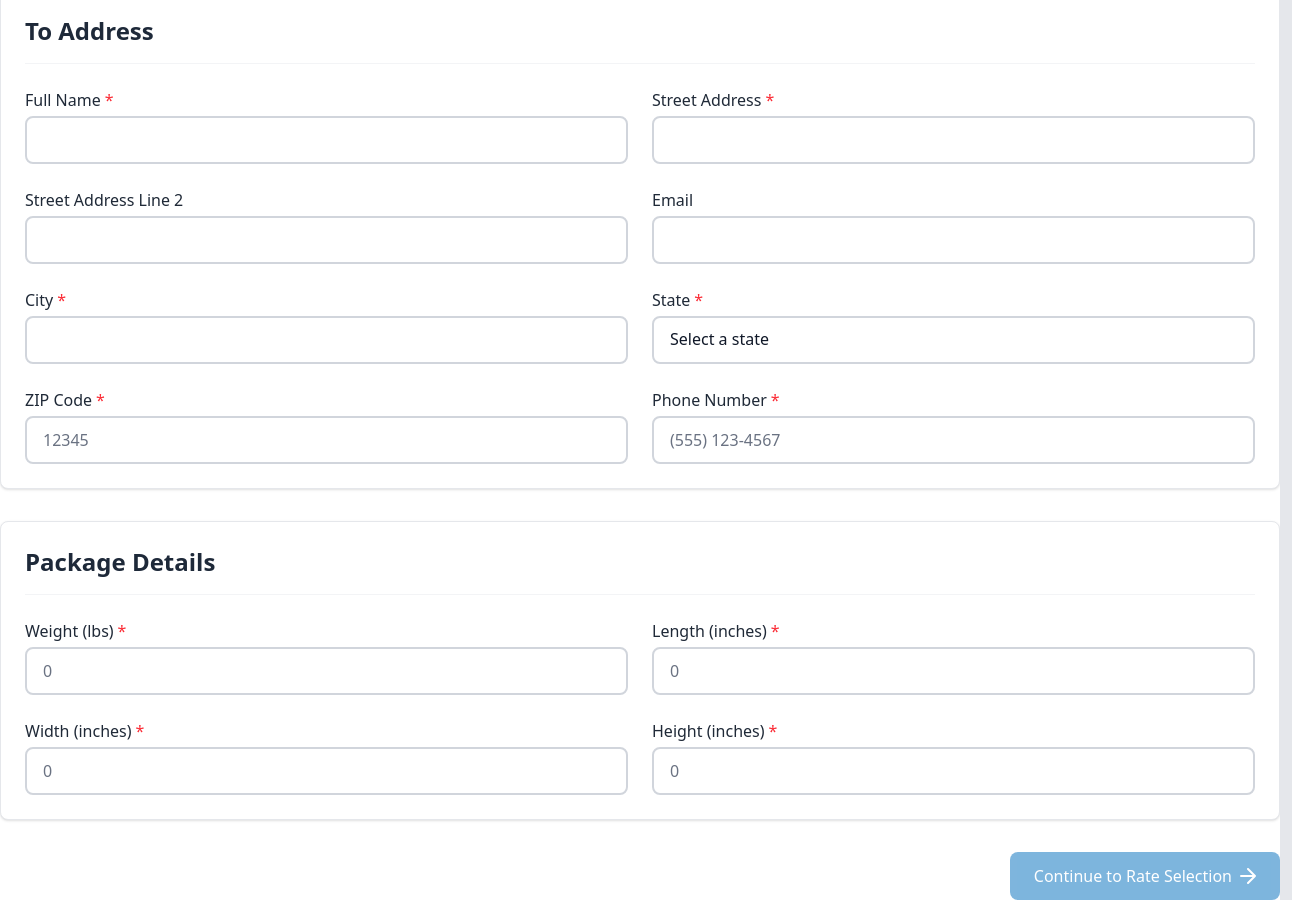
Test: ShipmentDetailsForm › shows validation errors when submitting with empty required fields
The width and height of the screenshot is (1292, 900).
(page scrolled)
Click the button "Continue to Rate Selection".
click(1145, 876)  # box x1=1010 y1=852 x2=1280 y2=899
(page scrolled)
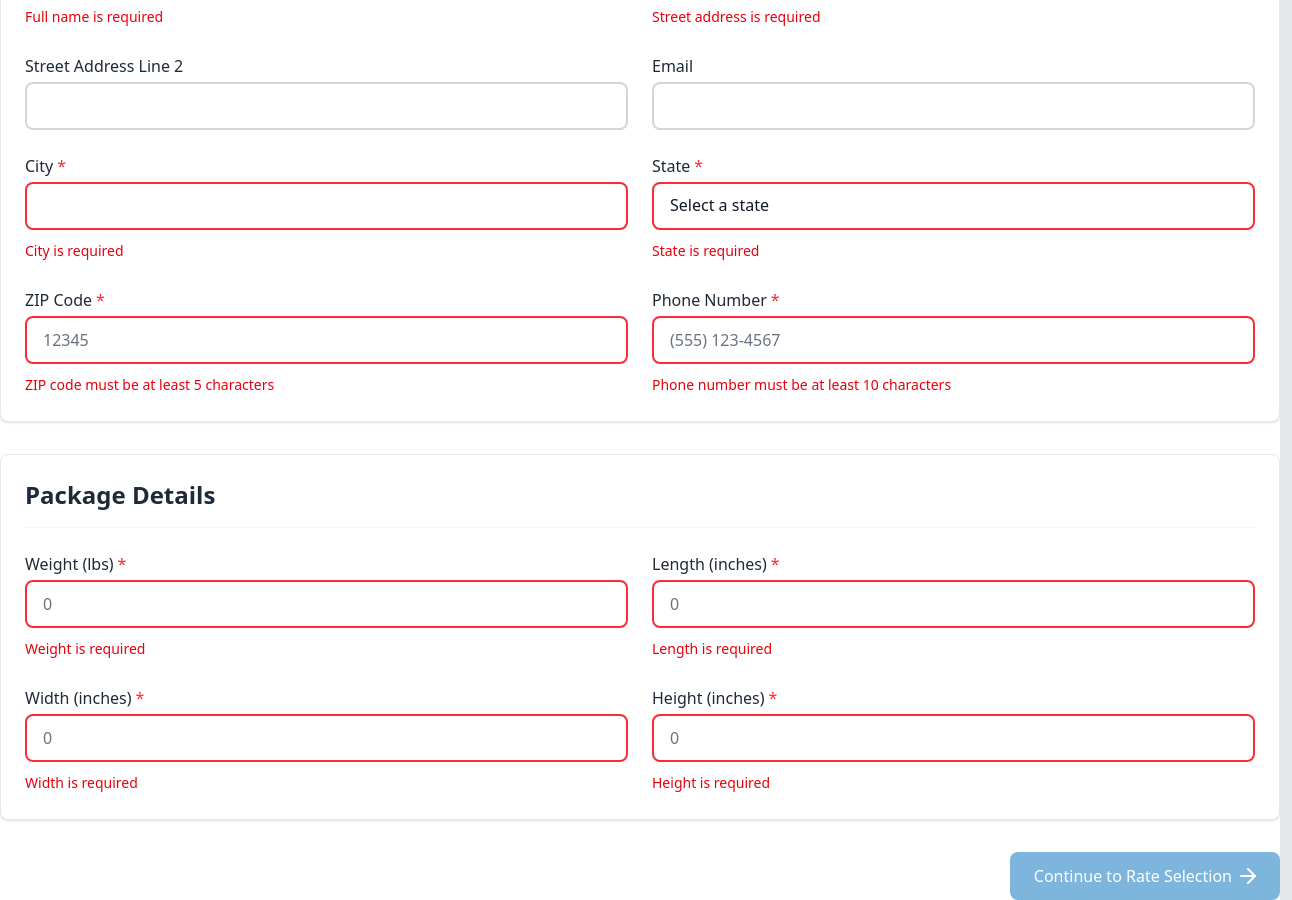
Check: the text "full name is required" is shown 2 times
Check: the text "Weight is required" is shown, box x1=25 y1=639 x2=146 y2=658
Check: the text "Length is required" is shown, box x1=652 y1=639 x2=772 y2=658
